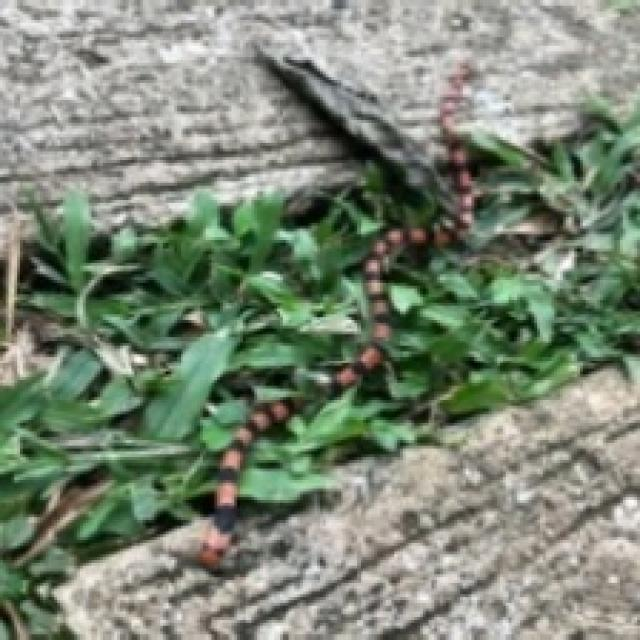barredcoral snake: (323, 60, 471, 394), (197, 397, 306, 569)
